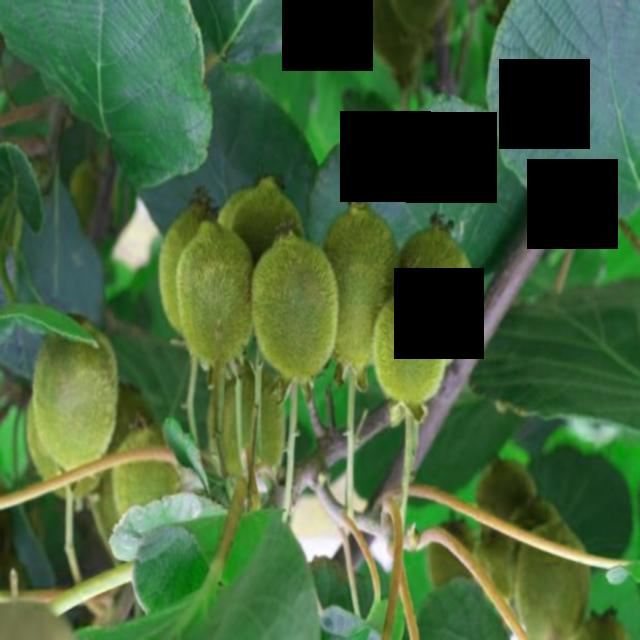kiwi: (245, 225, 344, 389), (319, 185, 399, 381), (34, 307, 125, 479), (397, 212, 479, 382), (174, 218, 262, 372), (210, 371, 290, 507), (374, 290, 448, 420), (516, 521, 596, 640), (27, 395, 105, 513), (157, 196, 218, 340), (114, 420, 192, 528), (480, 500, 562, 598), (224, 188, 308, 278), (356, 1, 424, 103), (467, 453, 545, 538), (423, 513, 483, 609), (383, 1, 450, 57), (559, 599, 635, 640)
